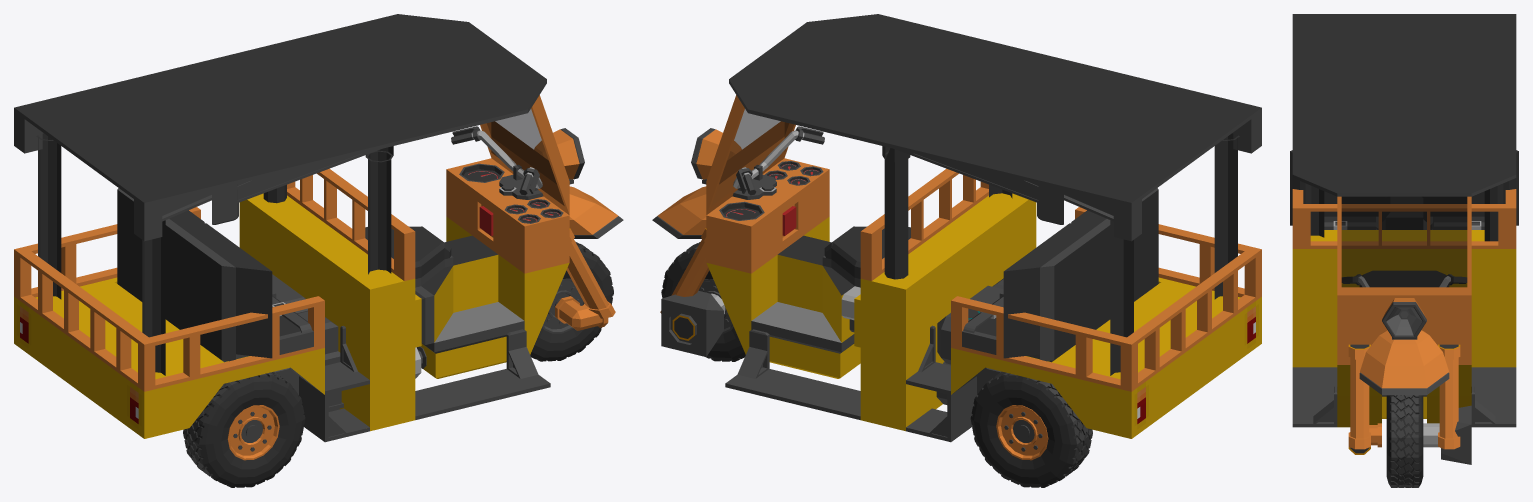
The model's file is ebike.glb.
The picture shows the model from 3 angles, left to right: view 1: azimuth 30°, elevation 25°; view 2: azimuth 150°, elevation 25°; view 3: azimuth 270°, elevation 25°; orthographic projection. The views are drawn at different scales.
Parts seen in each view (by area): view 1: body, wheel_rear, wheel_front; view 2: body, wheel_rear, wheel_front; view 3: body, wheel_front.
Boxes of the visible parts, x1=… form: body: x1=14, y1=14, x2=623, y2=442; wheel_rear: x1=183, y1=371, x2=305, y2=487; wheel_front: x1=530, y1=241, x2=613, y2=361; body: x1=652, y1=14, x2=1261, y2=442; wheel_rear: x1=970, y1=371, x2=1092, y2=487; wheel_front: x1=661, y1=242, x2=745, y2=361; body: x1=1290, y1=14, x2=1518, y2=449; wheel_front: x1=1348, y1=395, x2=1471, y2=487.
Size of the model in its own units: 2.94 by 1.67 by 1.28.
